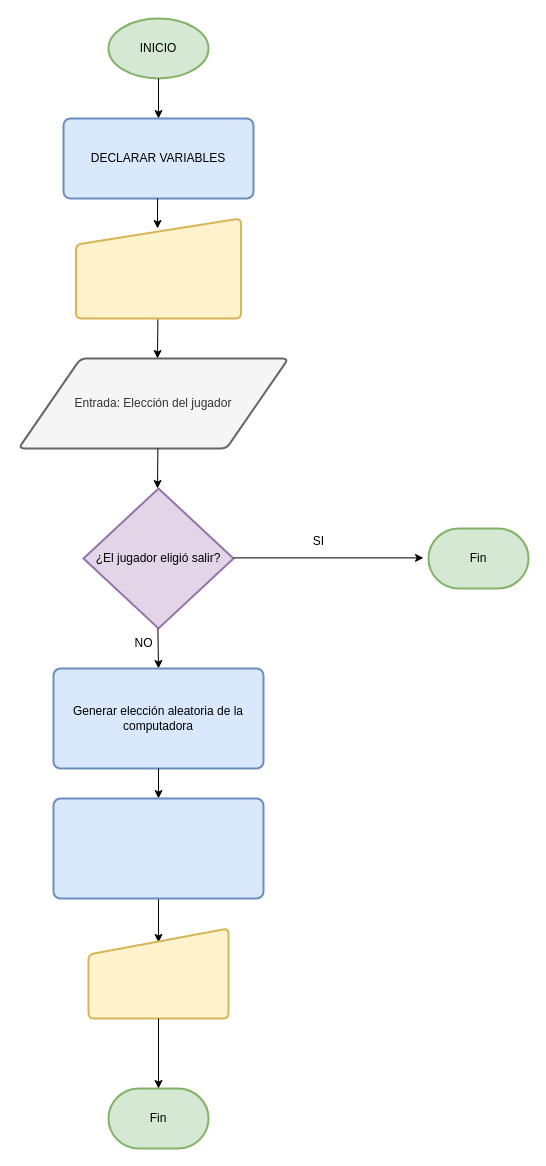
This 546x1166 diagram has some shape labels left out. Each missing label, with the centre of its shape:
Comparar elección del jugador con la computadora: the point at 158,848
MOSTRAR EL RESULTADO: the point at 158,973
Mostrar opciones: Piedra, Papel, Tijera, Salir": the point at 158,268
